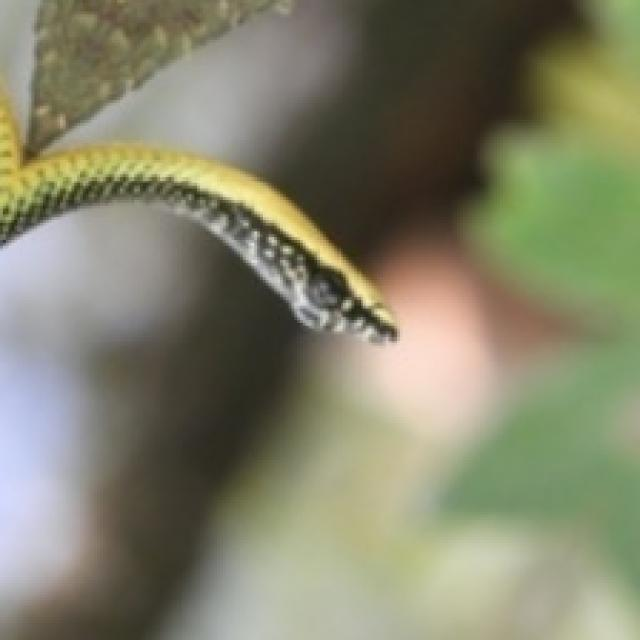paradise tree snake: (0, 77, 394, 340)
